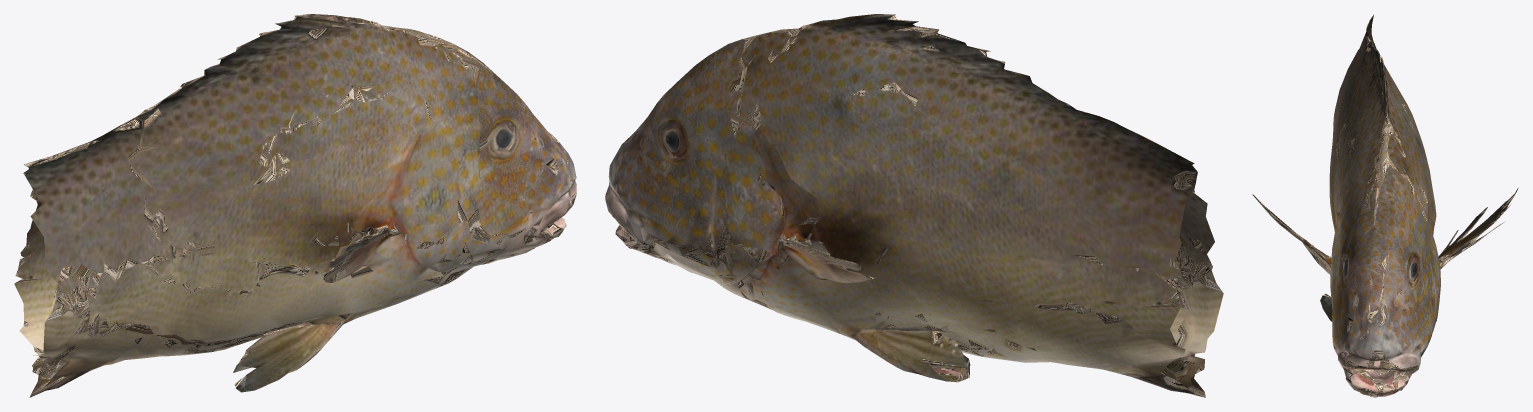
File: sweetlips_a.glb
3 renders of one model, left to right at view 1: azimuth 30°, elevation 25°; view 2: azimuth 150°, elevation 25°; view 3: azimuth 270°, elevation 25°, orthographic. The views are drawn at different scales.
Visible parts, largest first — view 1: sweetlips_a; view 2: sweetlips_a; view 3: sweetlips_a.
Part boxes in pixels (x1,y1,x2,y2): sweetlips_a: (14, 14, 576, 397); sweetlips_a: (605, 14, 1223, 397); sweetlips_a: (1252, 14, 1518, 397).
Bounding box in the file's own units: 0.4318 × 0.2467 × 0.2141.
1 material, 1 textured.
